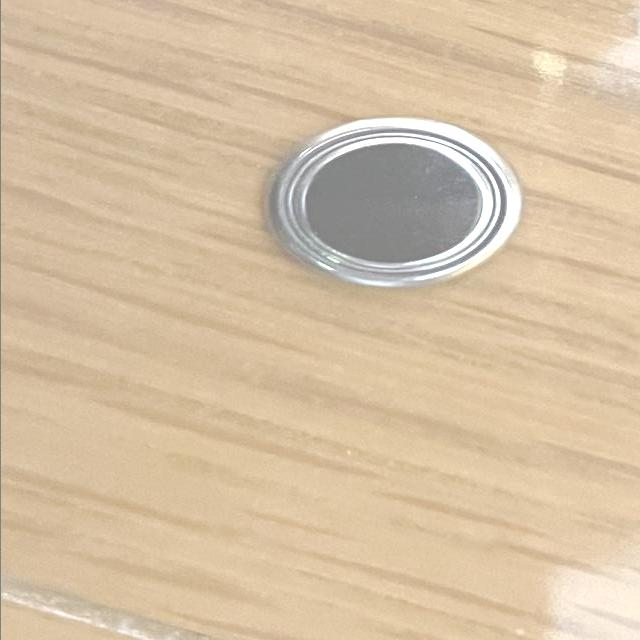COIN: (264, 114, 522, 290)
